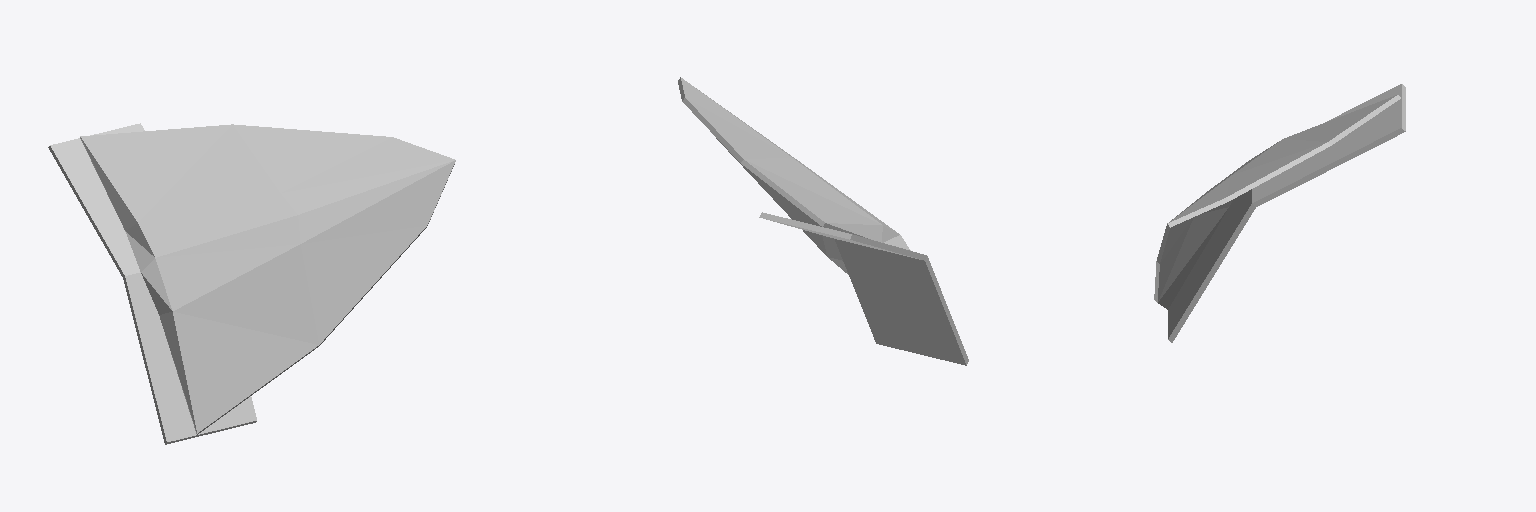
The model's file is blownUpPieces-ArmourScale.obj.
3 views of the same model, side by side, from view 1: azimuth 30°, elevation 25°; view 2: azimuth 150°, elevation 25°; view 3: azimuth 270°, elevation 25° (orthographic).
Visible parts, largest first — view 1: Plane.007_Plane.009; view 2: Plane.007_Plane.009; view 3: Plane.007_Plane.009.
Part boxes in pixels (left/top/right/bottom): Plane.007_Plane.009: left=48, top=123, right=455, bottom=444; Plane.007_Plane.009: left=678, top=77, right=968, bottom=365; Plane.007_Plane.009: left=1154, top=84, right=1405, bottom=342.
Size of the model in its own units: 1.94 by 1.46 by 1.46.